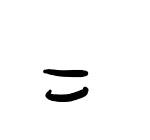eqv: (37, 64, 92, 104)
